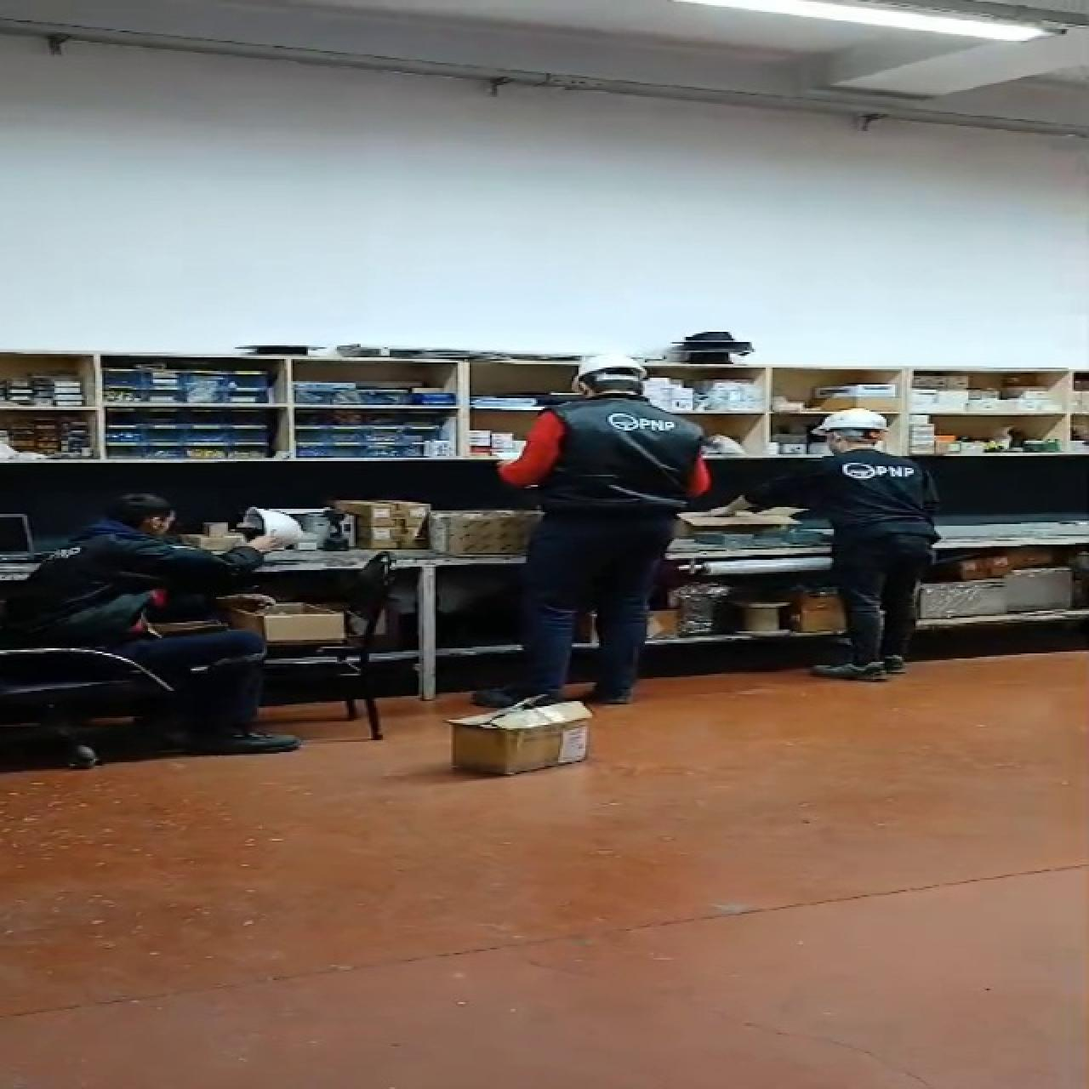NO_Safety_Vest: (543, 401, 693, 558), (12, 528, 157, 648), (823, 450, 931, 557)
Person: (478, 339, 717, 711), (6, 473, 306, 764), (779, 390, 934, 687)
